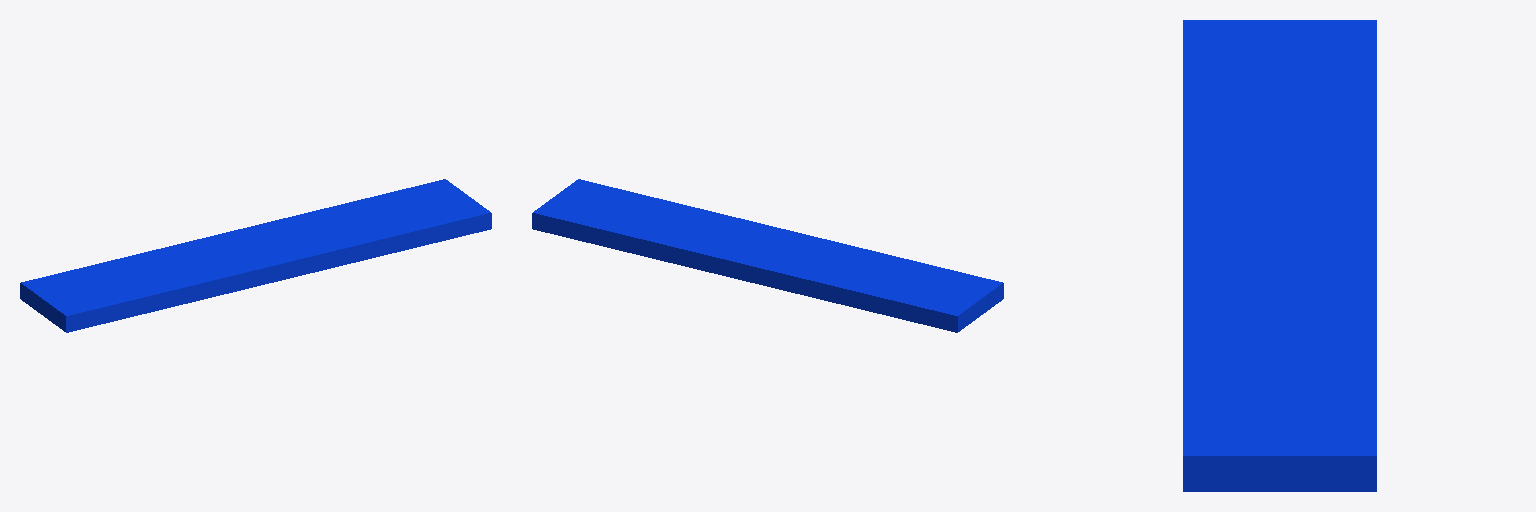
robot.urdf — parttoolgen_eraser_wipe_patch_016x003x0006:
<?xml version="1.0"?>
<robot name="parttoolgen_eraser_wipe_patch_016x003x0006">
  <link name="wipe_patch">
    <visual>
      <material name="wipe_patch_blue">
        <color rgba="0.08 0.32 0.95 1.0"/>
      </material>
      <origin xyz="0 0 0"/>
      <geometry>
        <box size="0.160 0.030 0.006"/>
      </geometry>
    </visual>
    <inertial>
      <mass value="0.01"/>
      <inertia ixx="0.0000008" ixy="0.0" ixz="0.0" iyy="0.0000214" iyz="0.0" izz="0.0000222"/>
    </inertial>
  </link>
</robot>

--- What the picture shows (computed from the rendered views, not written in the file) ---
The picture shows the robot from 3 angles, left to right: view 1: azimuth 30°, elevation 25°; view 2: azimuth 150°, elevation 25°; view 3: azimuth 270°, elevation 25°; orthographic projection.
Robot: parttoolgen_eraser_wipe_patch_016x003x0006 — 1 links, 0 joints (none); root link wipe_patch; default pose: every joint at zero.
Visible links, largest first — view 1: wipe_patch; view 2: wipe_patch; view 3: wipe_patch.
Boxes of the visible links, x1,y1,x2,y2 form: wipe_patch: (20,179,491,332); wipe_patch: (532,179,1003,332); wipe_patch: (1183,20,1376,491).
Bounding box of the posed robot: 0.16 × 0.03 × 0.006 m (x, y, z).
Geometry: primitives only (box / cylinder / sphere), no mesh files.
